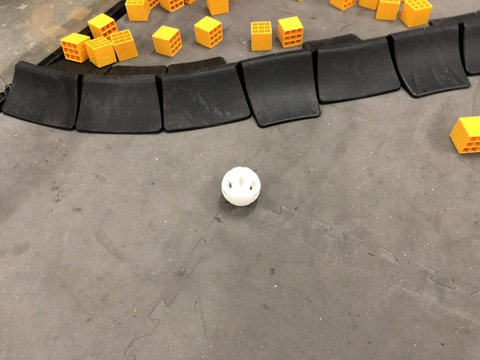ball: (208, 164, 274, 219)
block: (441, 113, 480, 162)
